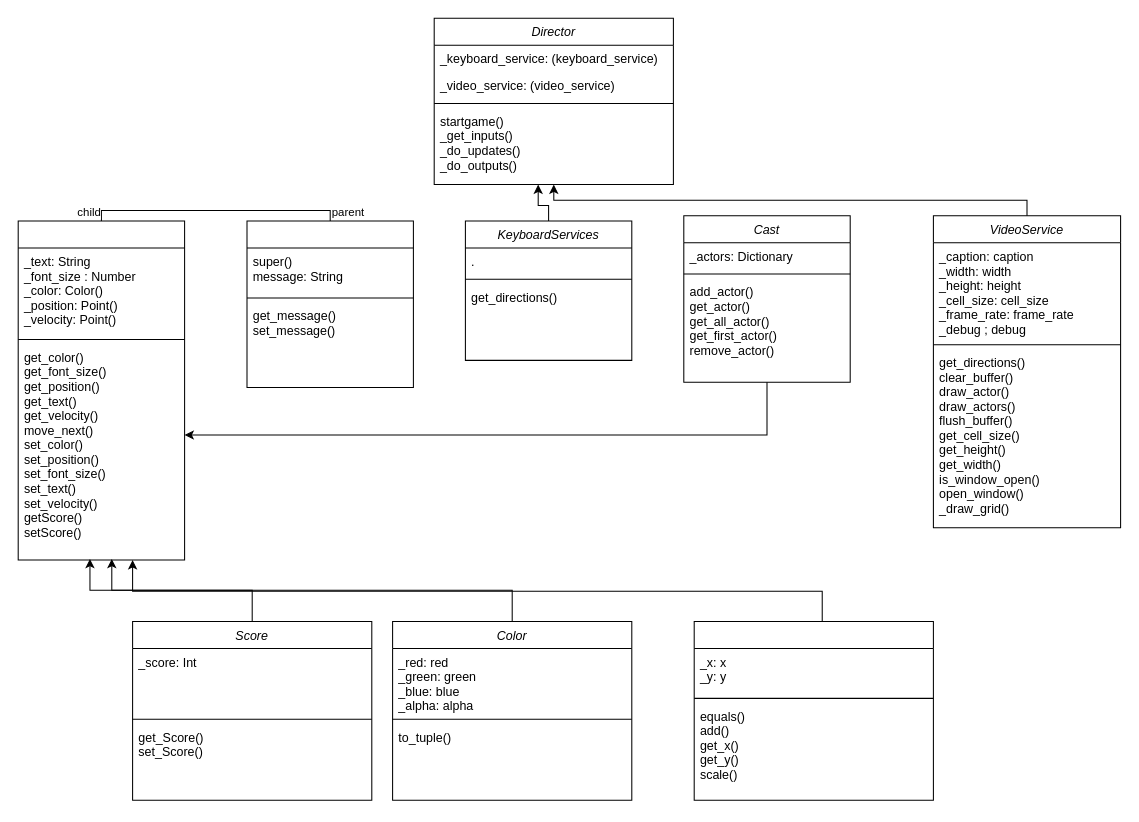
The diagram is 1139 pixels wide and 822 high, and some of its shapes have lost their labels. Each missing label, with the box of its shape:
Actor: (17, 220, 185, 560)
Artifact: (246, 220, 413, 387)
Point: (693, 620, 933, 800)
